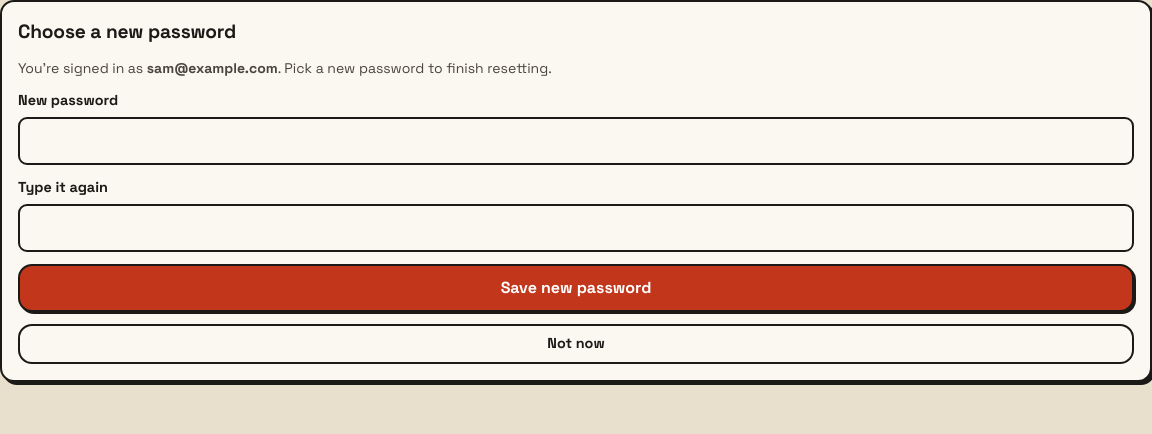
Test: choosing a new password › won't save mismatched or short passwords
The width and height of the screenshot is (1152, 434).
Type "longenough1" into the password field labelled "New password" at x=576, y=141, box left=18, top=117, right=1134, bottom=165
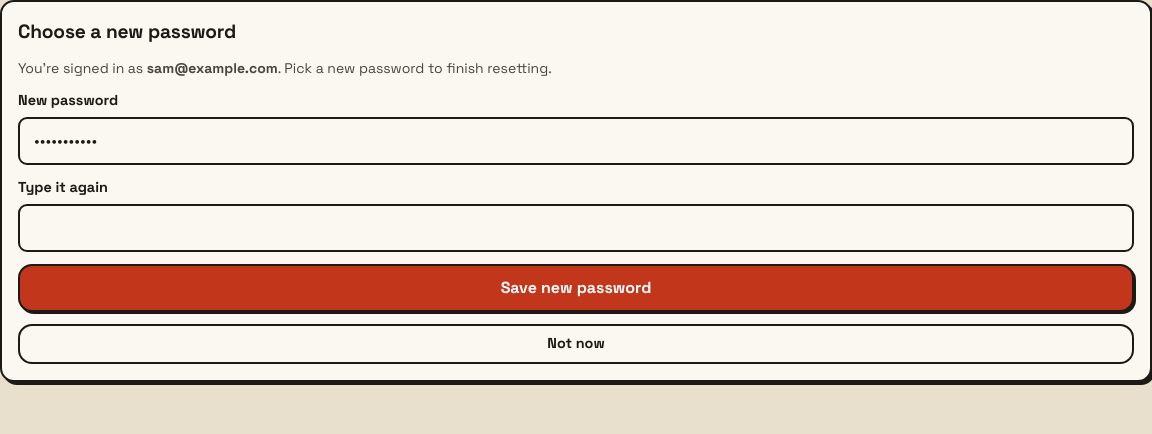
Type "different11" into the password field labelled "Type it again" at x=576, y=228, box left=18, top=204, right=1134, bottom=252
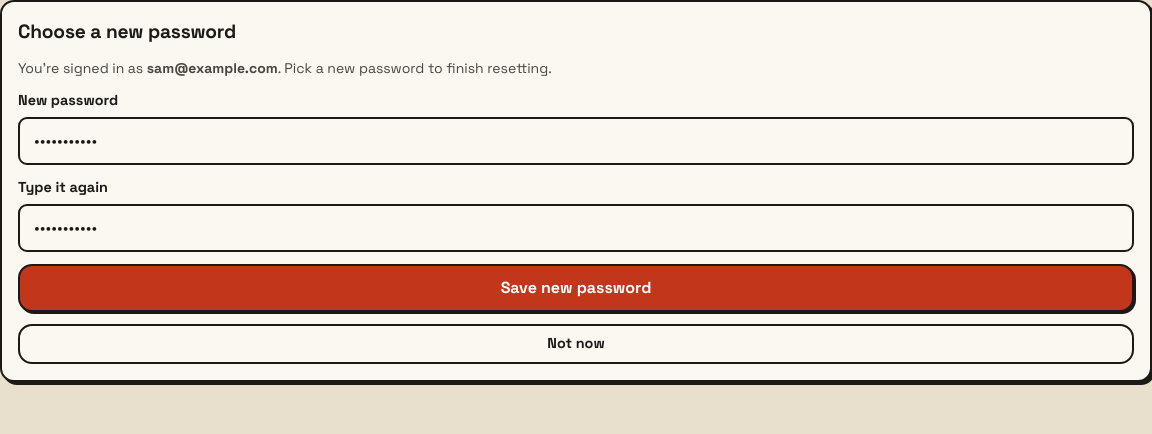
Submit the form "Save new password"
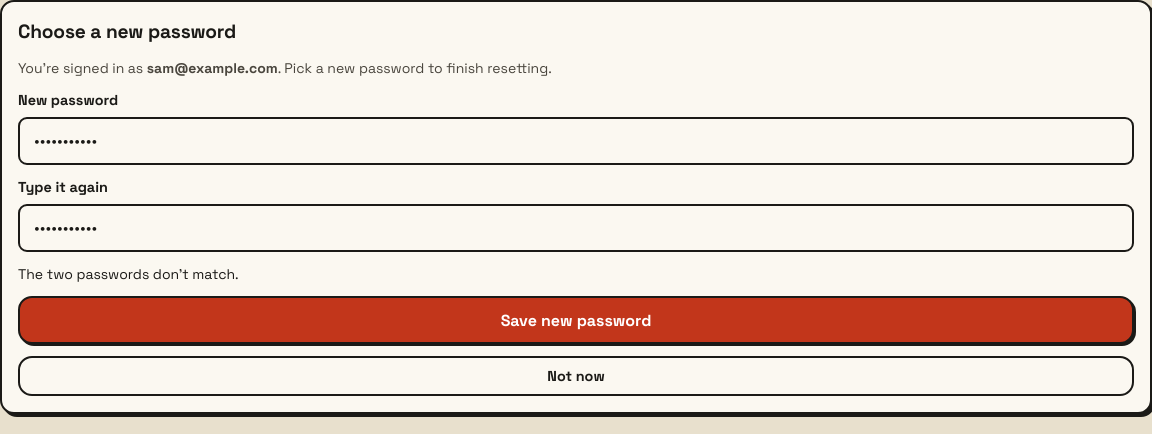
Result: the message shows "don’t match" at left=18, top=265, right=239, bottom=283
Type "short" into the password field labelled "New password" at x=576, y=141, box left=18, top=117, right=1134, bottom=165
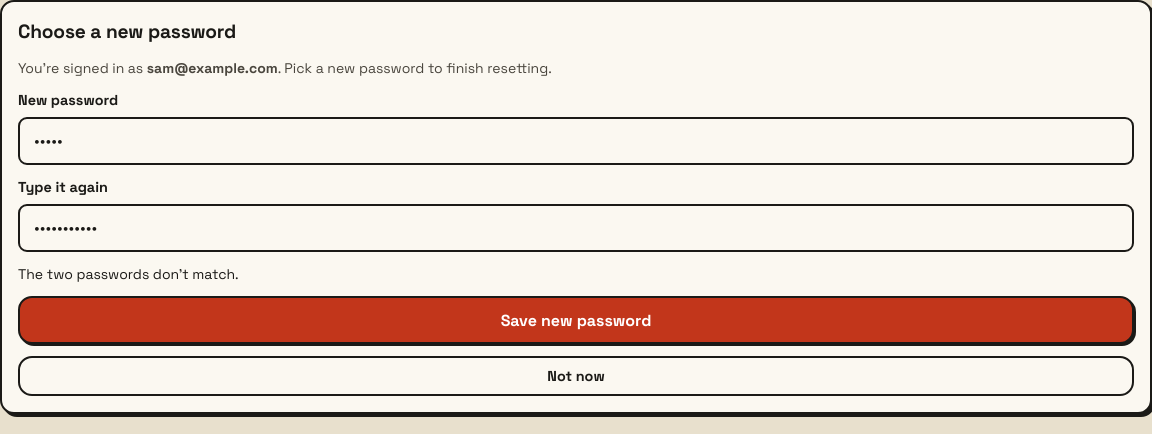
Type "short" into the password field labelled "Type it again" at x=576, y=228, box left=18, top=204, right=1134, bottom=252
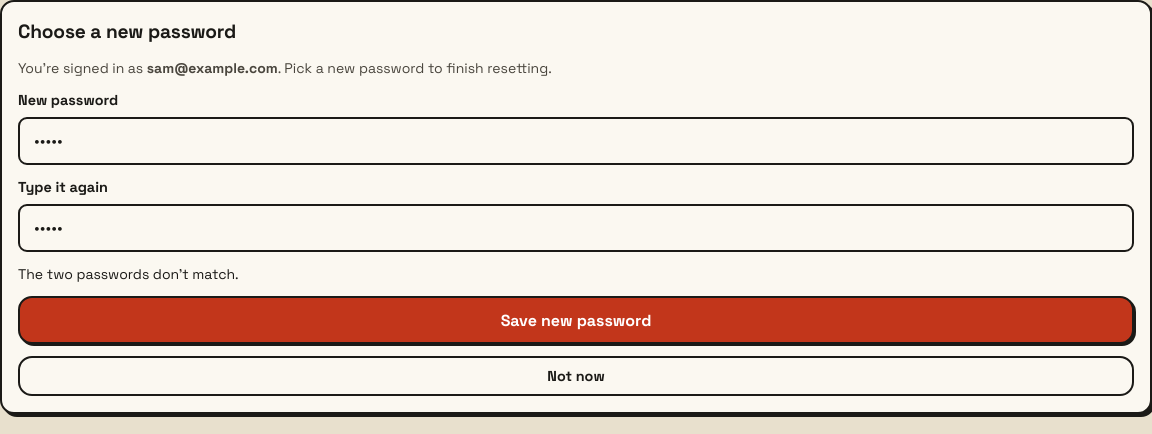
Submit the form "Save new password"
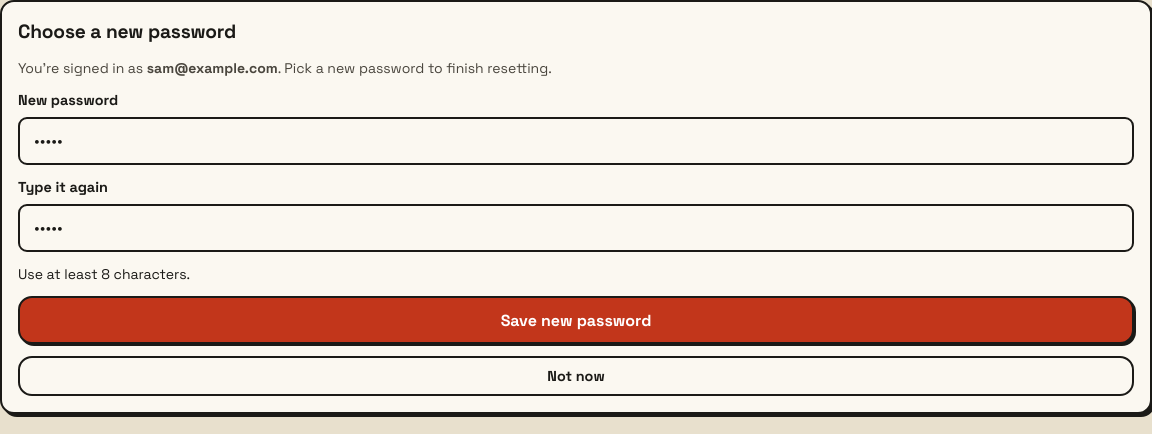
Result: the message shows "at least 8" at left=18, top=265, right=190, bottom=283
